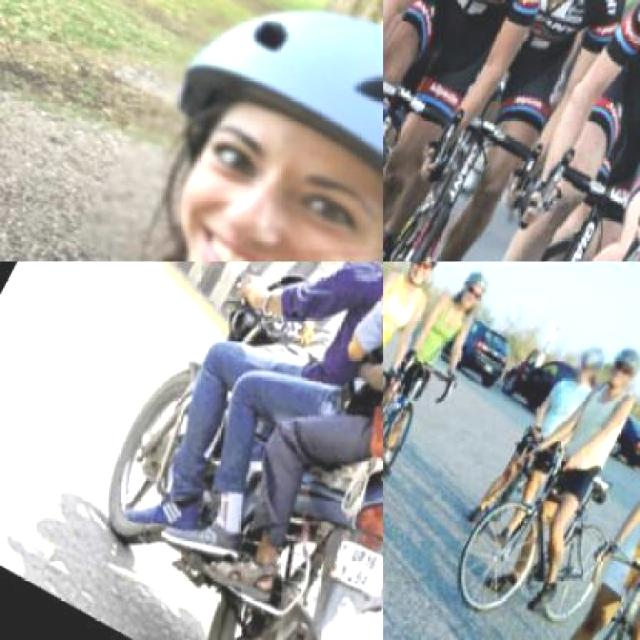With Helmet: (76, 0, 382, 260), (443, 262, 506, 320), (596, 328, 638, 394), (565, 332, 610, 386), (394, 262, 451, 290)
